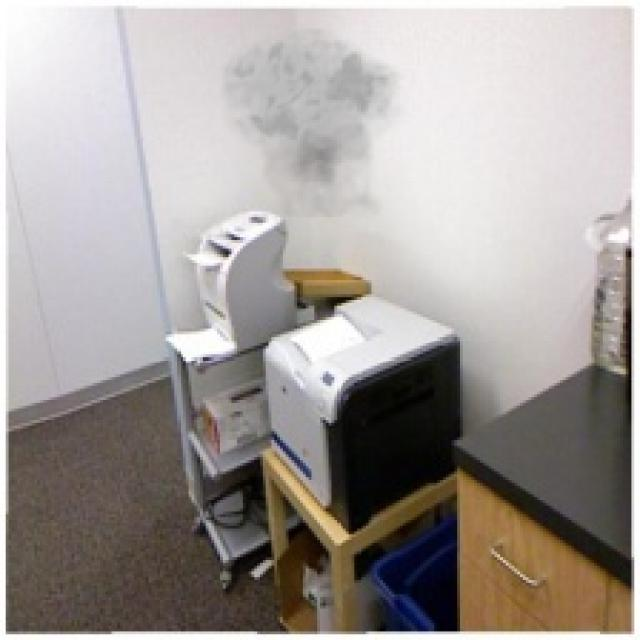smoke: (212, 26, 417, 234)
